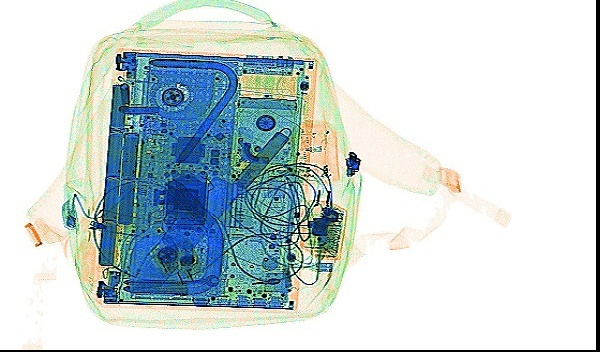knife: (128, 125, 292, 295)
